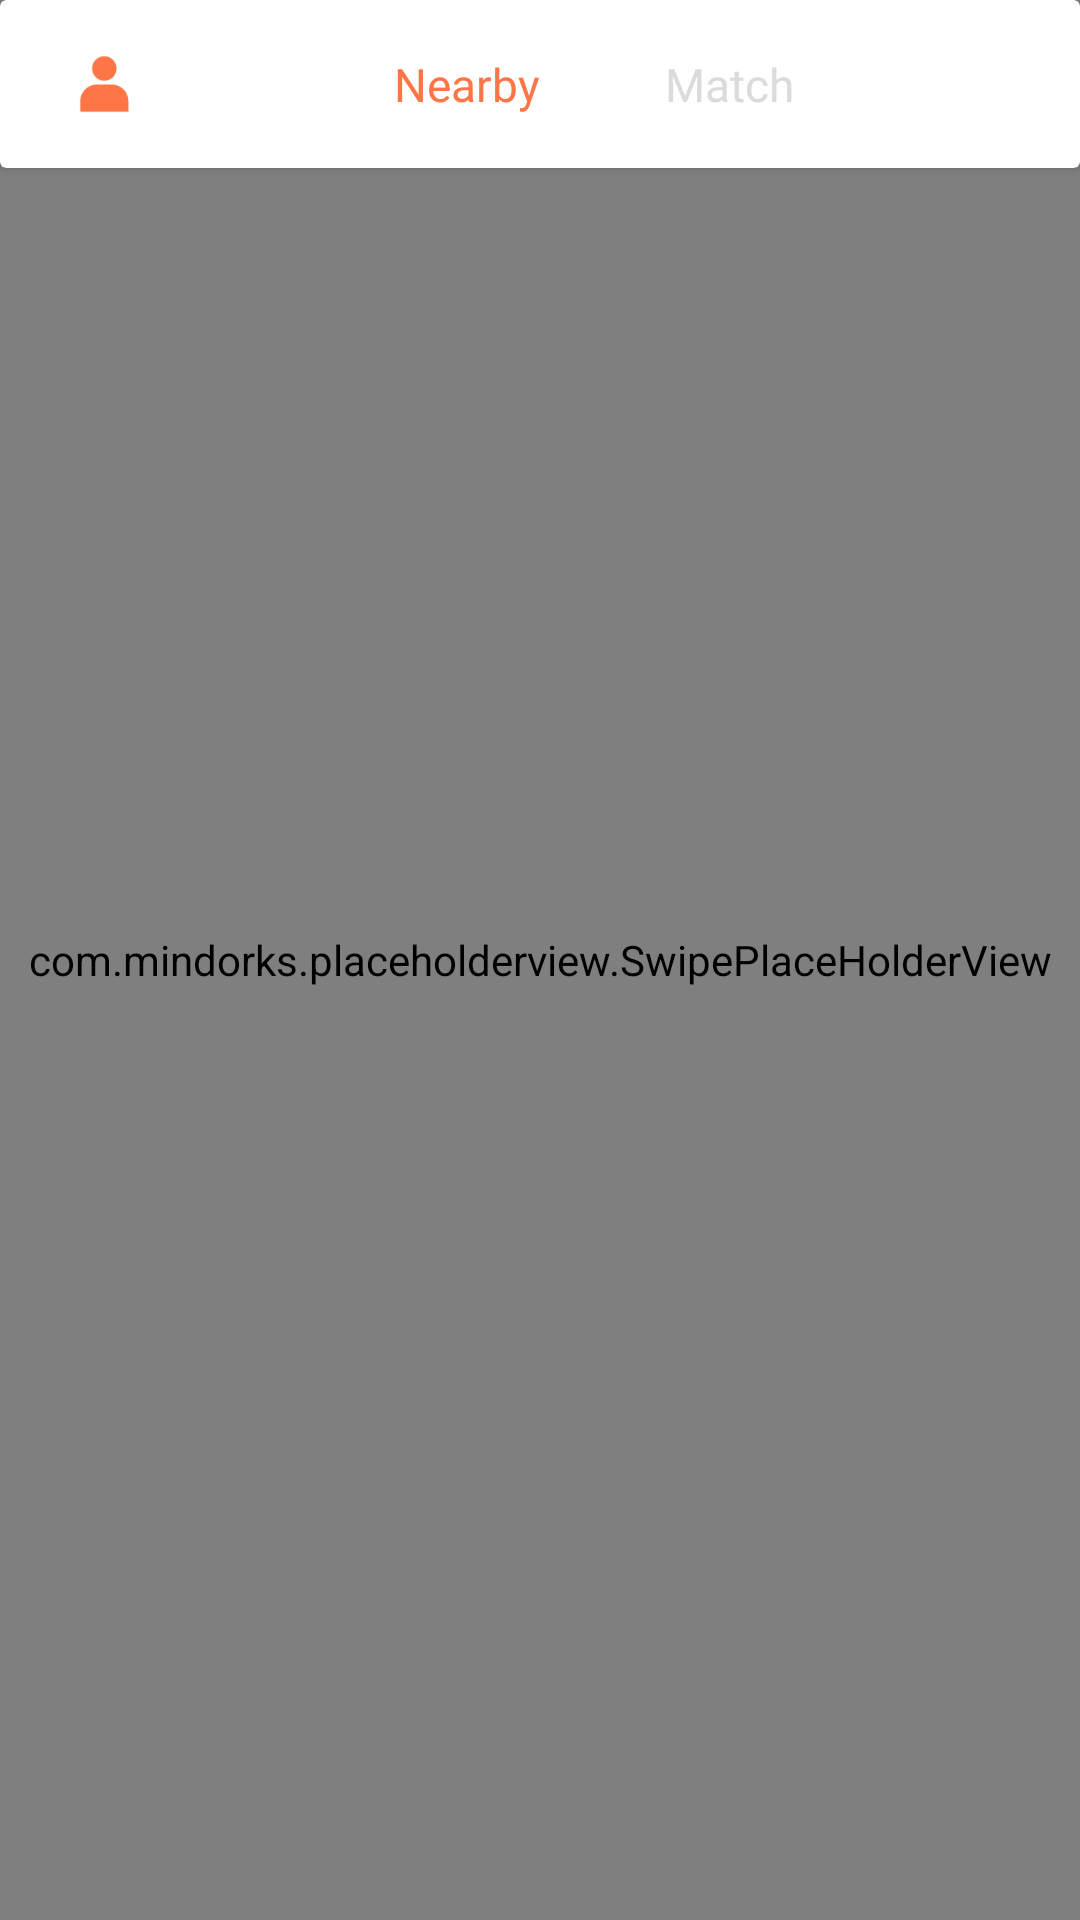

Named icons in this screenshot (1080×1920) and their centers, point (x, y):
visitor: point (104, 84)
